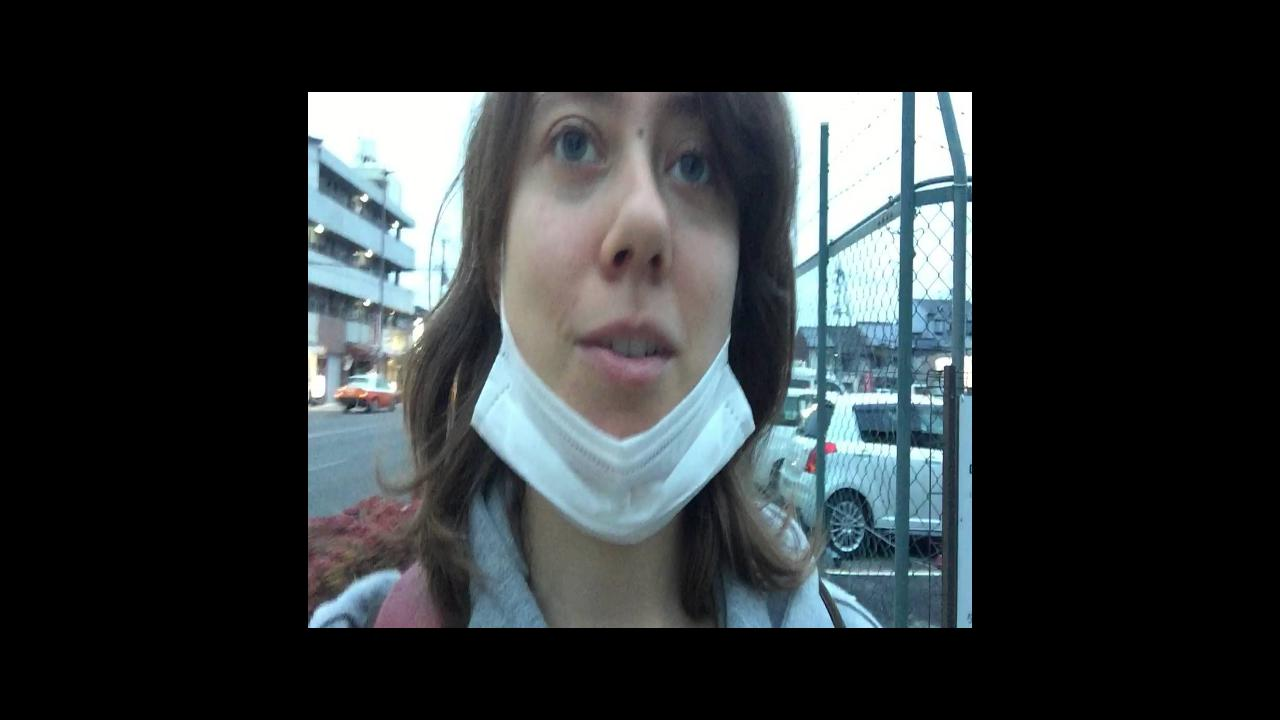mask_weared_incorrect: (530, 109, 729, 498)
